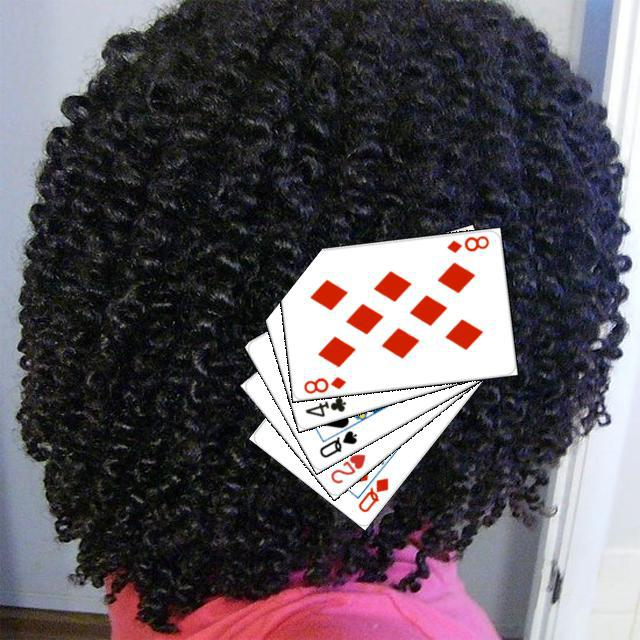2h: (325, 449, 367, 485)
4c: (300, 392, 348, 419)
8d: (442, 230, 491, 254), (299, 372, 347, 395)
Qd: (353, 473, 390, 514)
Qs: (314, 425, 359, 460)
